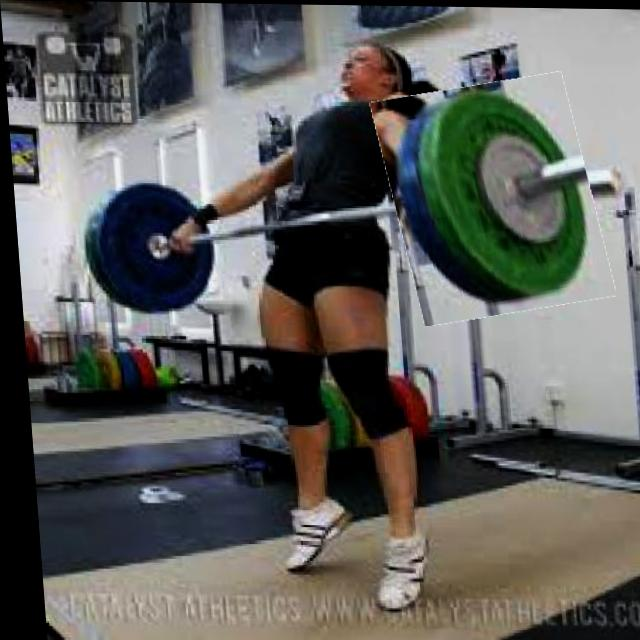barbell: (376, 76, 605, 320)
